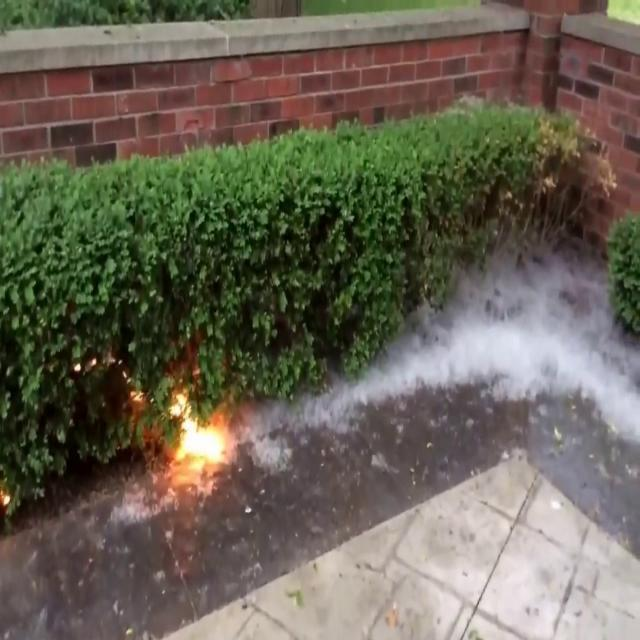Fire: (168, 392, 230, 478)
Smoke: (410, 248, 640, 426)
